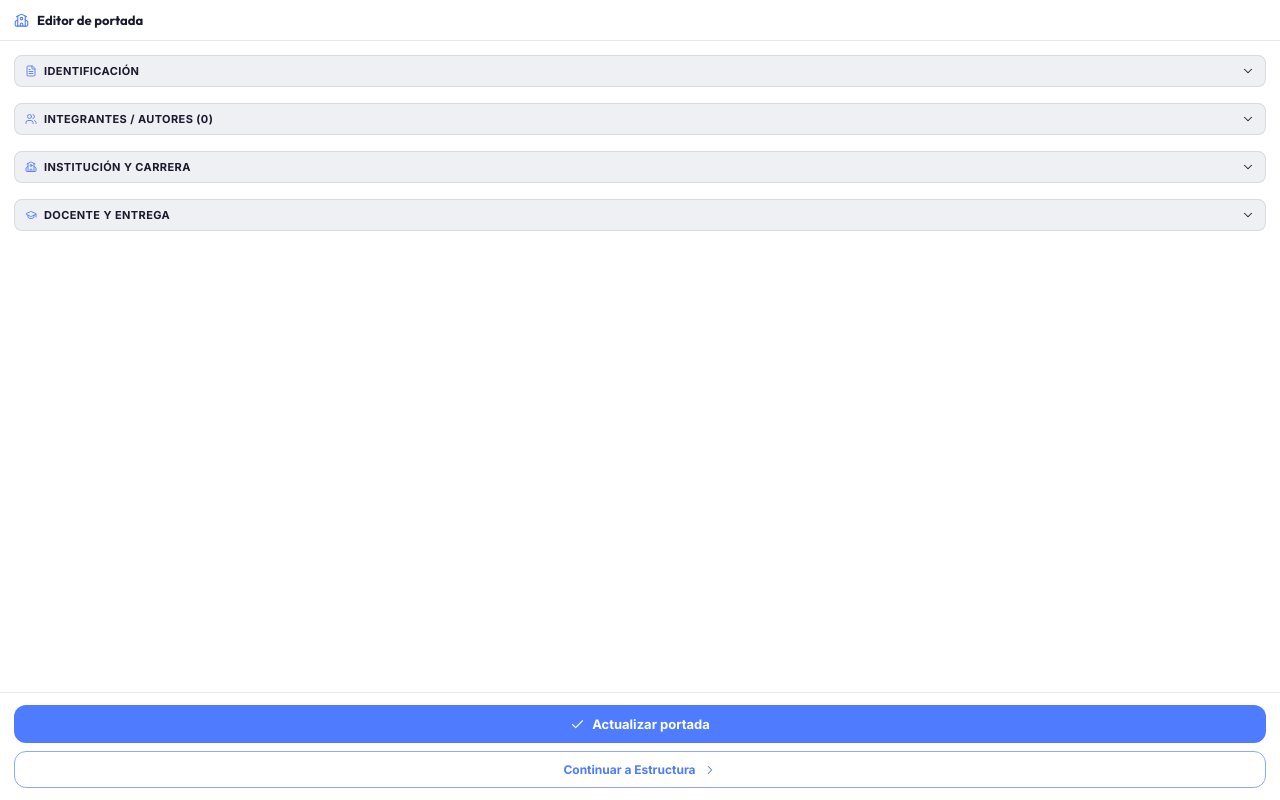
Test case: editor de portada: datos inferidos y secciones › una institución ya conocida se muestra directo, sin pedir permiso
The image size is (1280, 800).
Click the button "Institución y carrera" at (117, 167), box [14,151,1266,183]
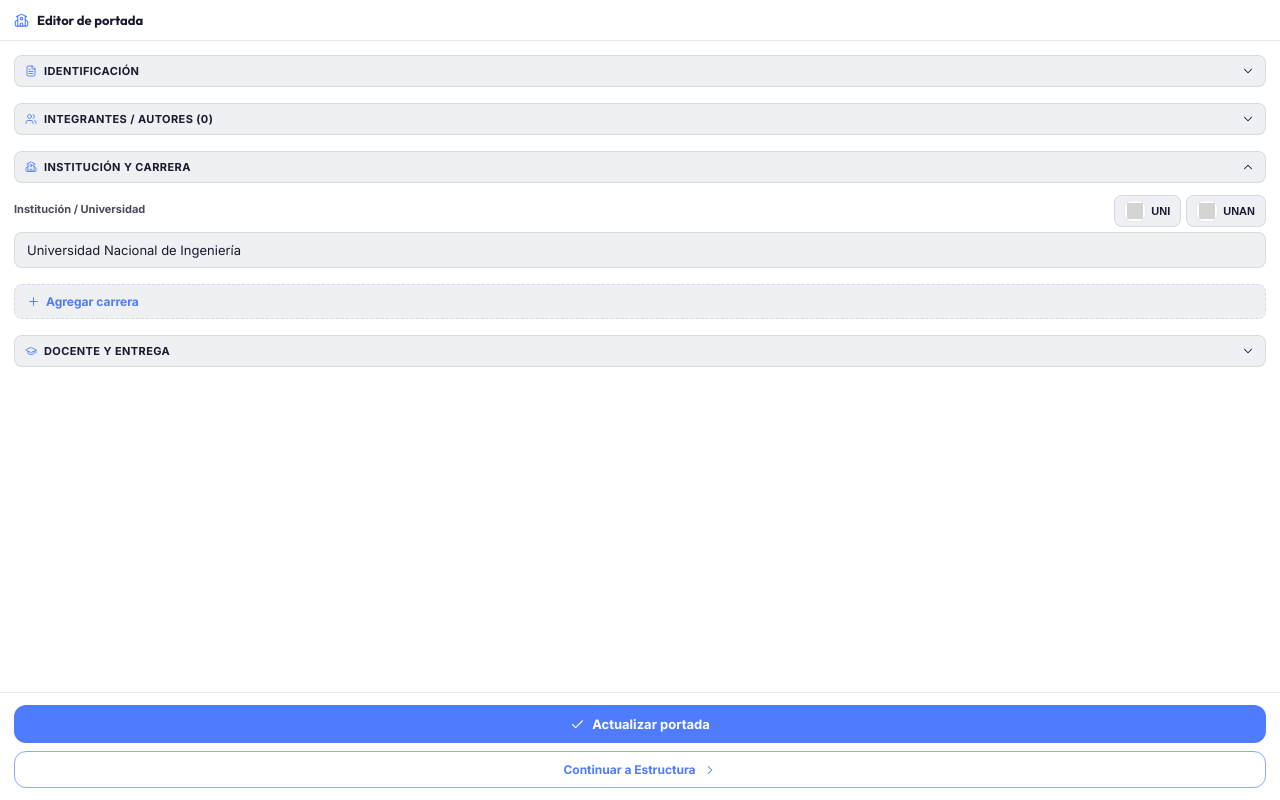
Check: the field with placeholder "Universidad o institución" is shown, box [14,232,1266,268]
